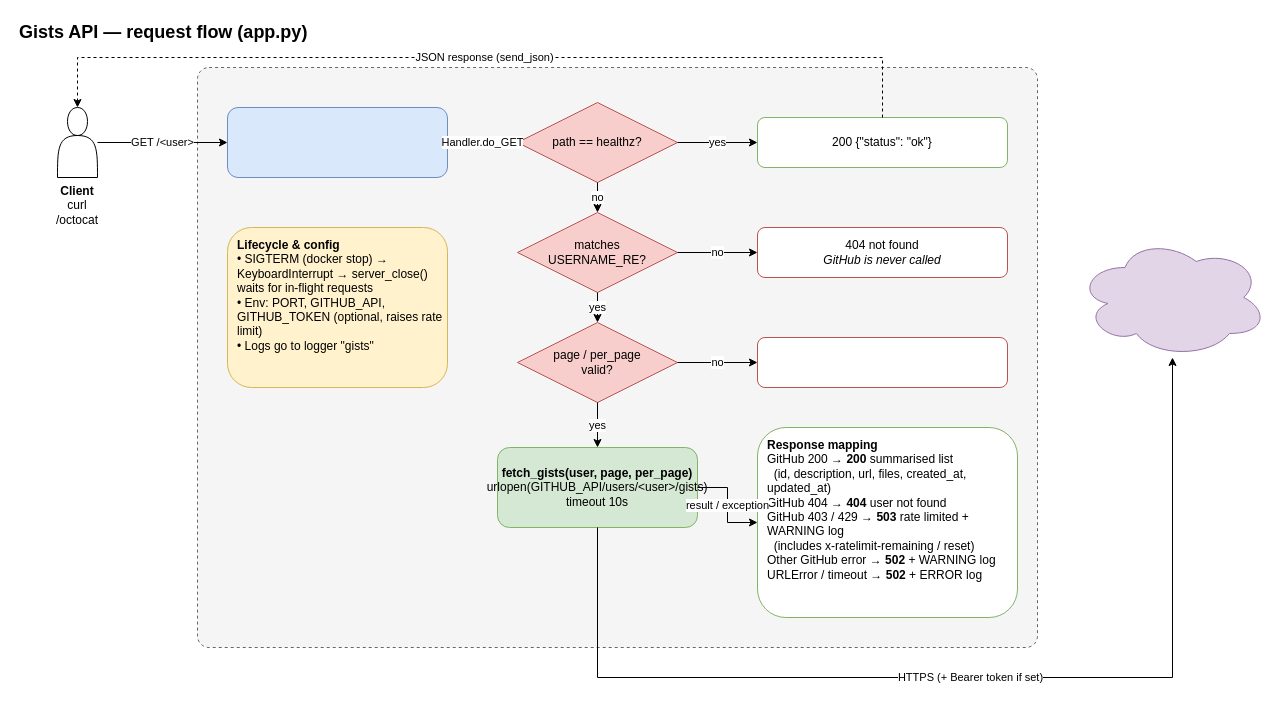
This 1285x703 diagram has some shape labels left out. Each missing label, with the box of its shape:
400 invalid page / per_page (per_page silently capped at 100): (756, 336, 1008, 388)
Docker container (python:3.12-slim, port 8080) — app.py, stdlib only: (196, 66, 1038, 648)
GitHub REST API api.github.com GET /users/{user}/gists: (1076, 236, 1268, 358)
ThreadingHTTPServer 0.0.0.0:PORT one thread per request: (226, 106, 448, 178)
